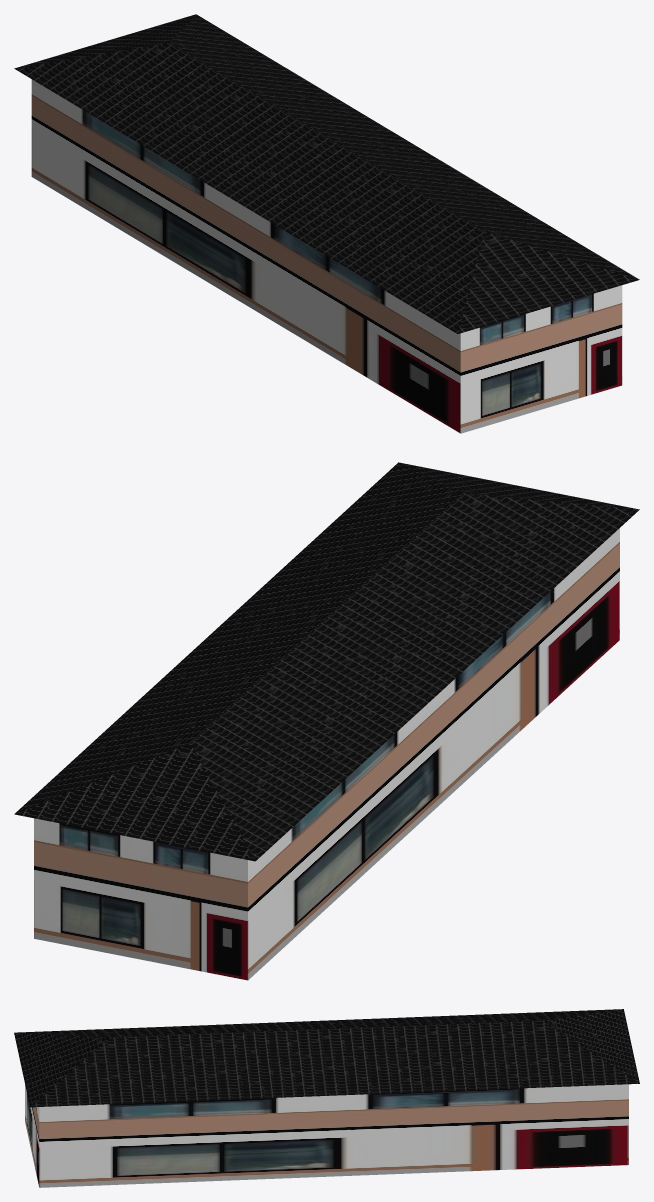
3 views of the same model, one above another, from view 1: azimuth 30°, elevation 25°; view 2: azimuth 150°, elevation 25°; view 3: azimuth 270°, elevation 25° (orthographic). The views are drawn at different scales.
Parts seen in each view (by area): view 1: CityEngineMaterial_14_m, CityEngineMaterial_5_m; view 2: CityEngineMaterial_14_m, CityEngineMaterial_5_m; view 3: CityEngineMaterial_5_m, CityEngineMaterial_14_m.
Part boxes in pixels (<box>): CityEngineMaterial_14_m: <box>14,14,639,333</box>; CityEngineMaterial_5_m: <box>31,79,622,433</box>; CityEngineMaterial_14_m: <box>14,462,639,861</box>; CityEngineMaterial_5_m: <box>34,528,619,980</box>; CityEngineMaterial_5_m: <box>25,1084,628,1187</box>; CityEngineMaterial_14_m: <box>14,1009,639,1107</box>.
Size of the model in its own units: 21.57 by 11.72 by 58.08.
